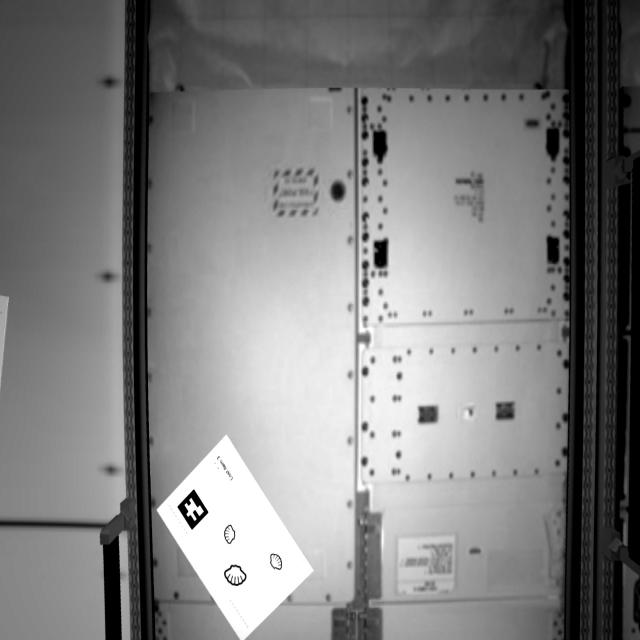shell: (221, 561, 251, 592), (222, 524, 240, 548), (270, 552, 285, 572)
